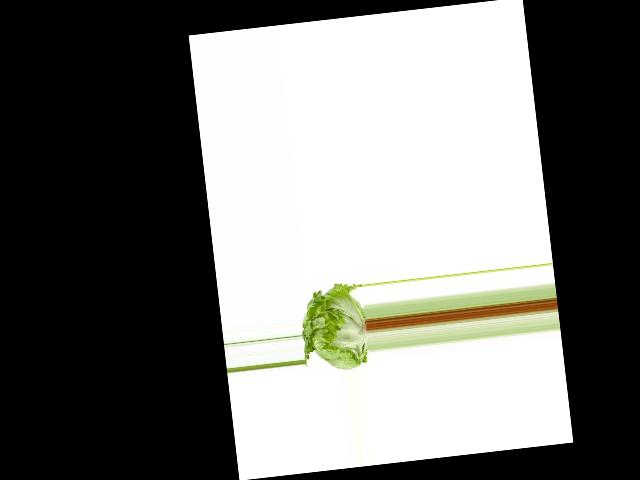lettuce: (297, 277, 372, 376)
